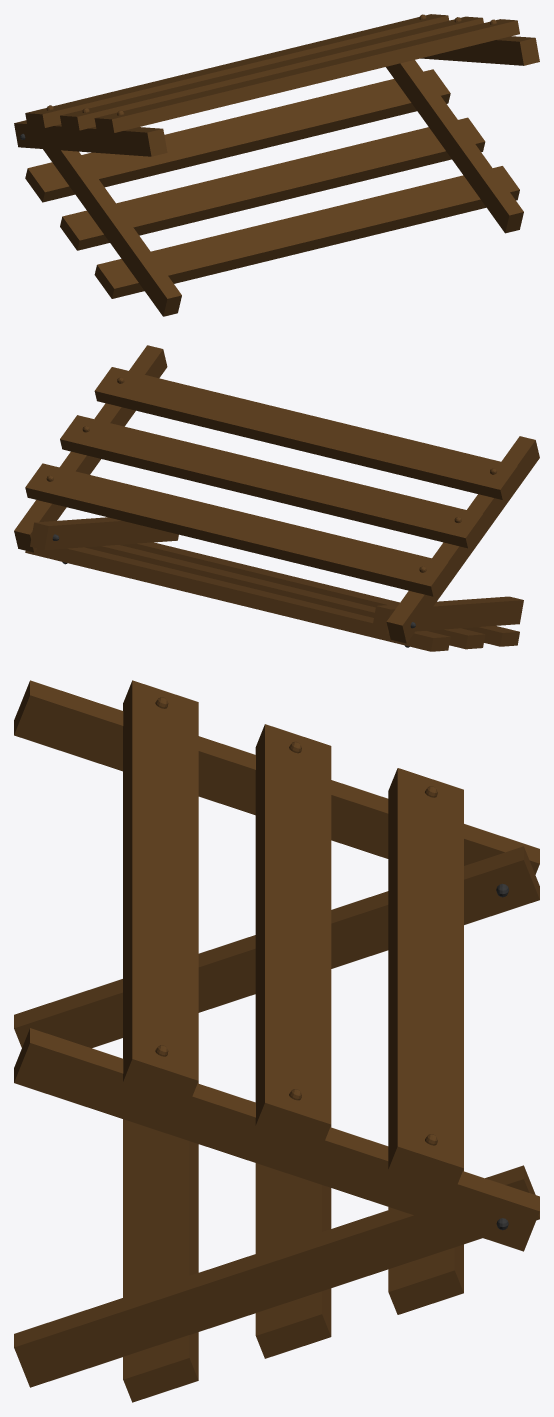
File: weapon_rack.fbx
3 views of the same model, one above another, from view 1: azimuth 30°, elevation 25°; view 2: azimuth 150°, elevation 25°; view 3: azimuth 270°, elevation 25° (orthographic). The views are drawn at different scales.
Parts seen in each view (by area): view 1: Cube.001; view 2: Cube.001; view 3: Cube.001.
Part boxes in pixels (box(x1,y1,x2,y2)): Cube.001: box(14, 14, 539, 316); Cube.001: box(14, 345, 539, 651); Cube.001: box(14, 680, 539, 1402).
Bounding box in the file's own units: 16992 × 7527 × 9974.
